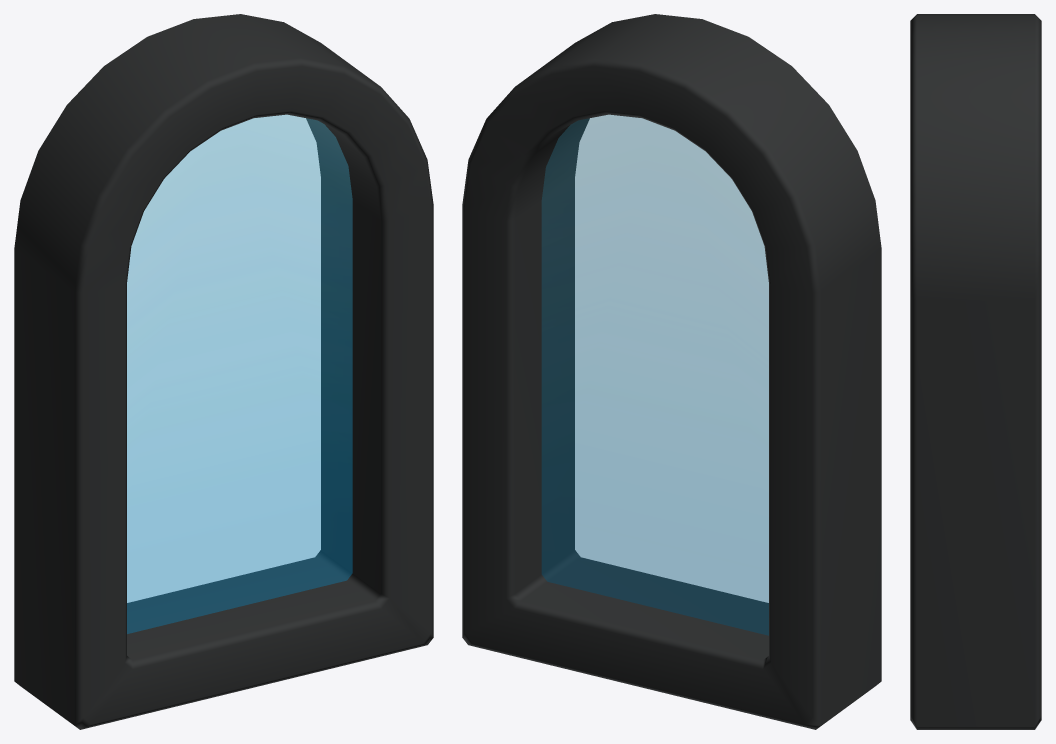
Rendered from Window_Black_17.glb.
The picture shows the model from 3 angles, left to right: view 1: azimuth 30°, elevation 25°; view 2: azimuth 150°, elevation 25°; view 3: azimuth 270°, elevation 25°; orthographic projection.
Visible parts, largest first — view 1: Window_Black_17; view 2: Window_Black_17; view 3: Window_Black_17.
Boxes of the visible parts, <box> form: Window_Black_17: <box>14,14,433,729</box>; Window_Black_17: <box>462,14,881,729</box>; Window_Black_17: <box>910,14,1041,729</box>.
Size of the model in its own units: 1.24 by 2.07 by 0.4.
Materials: 2 (2 with a texture image).
